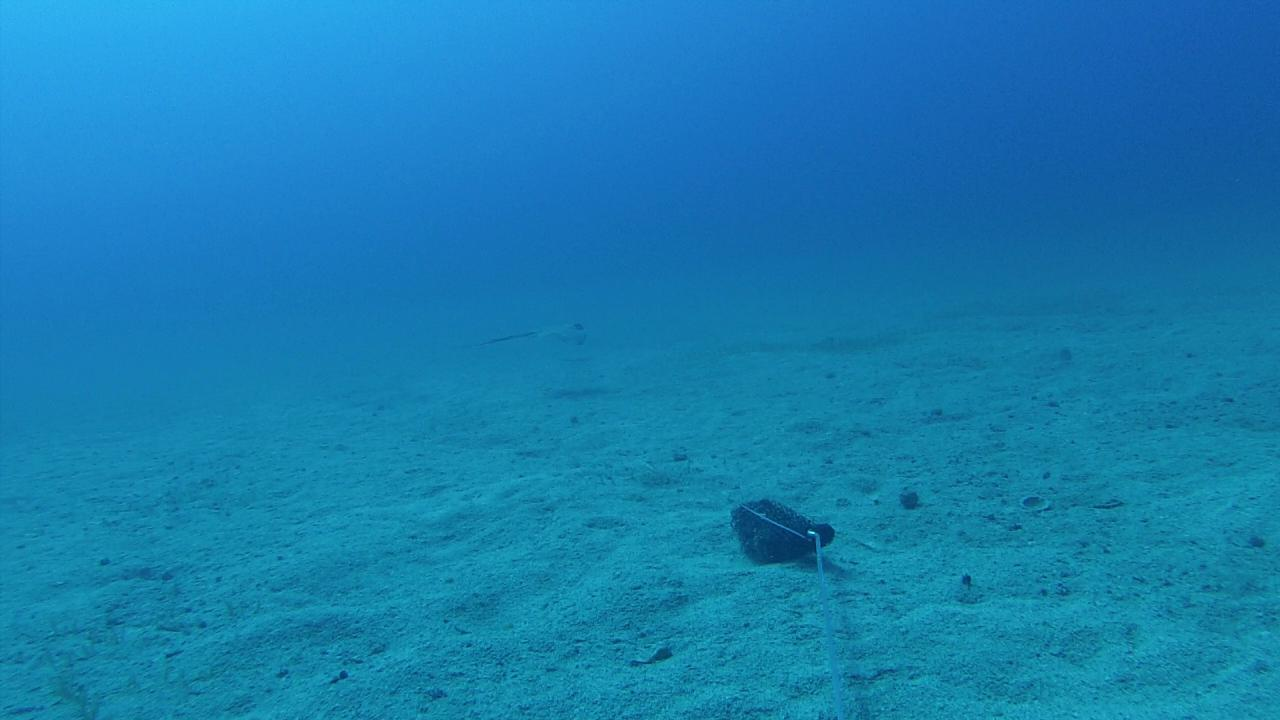dasyatis: (472, 318, 590, 347)
